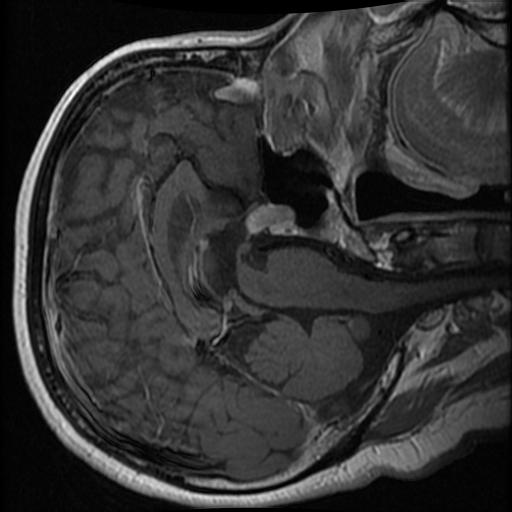pituitary tumour: (245, 203, 294, 234)
